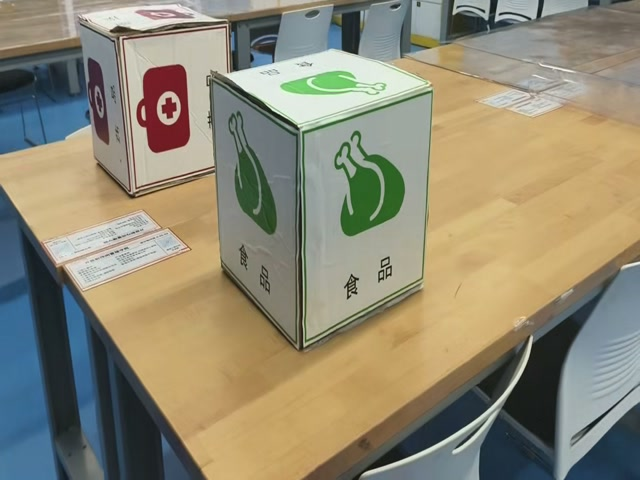Cube_food: (210, 50, 428, 139)
Cube_medicine: (76, 1, 228, 40)
